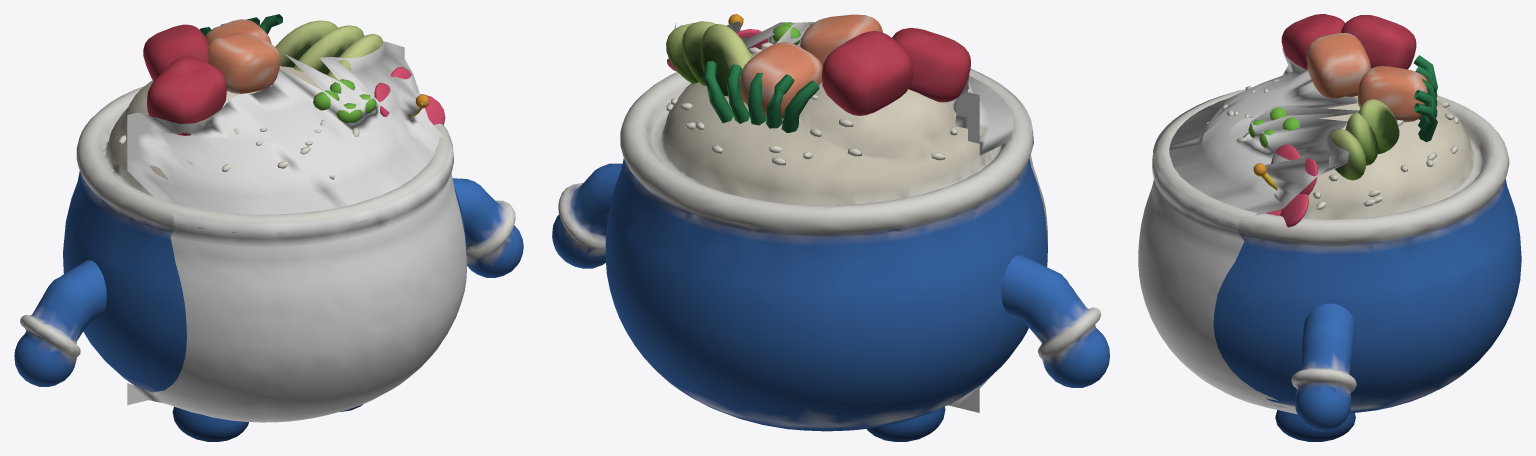
The model's file is folk2_kai_lod1.glb.
The picture shows the model from 3 angles, left to right: view 1: azimuth 30°, elevation 25°; view 2: azimuth 150°, elevation 25°; view 3: azimuth 270°, elevation 25°; orthographic projection. The views are drawn at different scales.
Visible parts, largest first — view 1: kai_face, kai_body, kai_arm_l, kai_arm_r, kai_foot_l; view 2: kai_body, kai_arm_l, kai_face, kai_arm_r, kai_foot_l; view 3: kai_body, kai_face, kai_arm_r, kai_foot_r.
Boxes of the visible parts, bbox=[...] form: kai_face: bbox=[127, 41, 466, 422]; kai_body: bbox=[63, 14, 466, 392]; kai_arm_l: bbox=[14, 260, 106, 386]; kai_arm_r: bbox=[452, 178, 523, 277]; kai_foot_l: bbox=[172, 406, 248, 441]; kai_body: bbox=[605, 14, 1047, 431]; kai_arm_l: bbox=[1001, 255, 1109, 387]; kai_face: bbox=[674, 18, 1047, 412]; kai_arm_r: bbox=[552, 163, 622, 268]; kai_foot_l: bbox=[867, 407, 945, 441]; kai_body: bbox=[1152, 14, 1521, 413]; kai_face: bbox=[1138, 48, 1358, 414]; kai_arm_r: bbox=[1291, 303, 1356, 431]; kai_foot_r: bbox=[1275, 410, 1355, 441].
Size of the model in its own units: 1.48 by 1.08 by 1.04.
